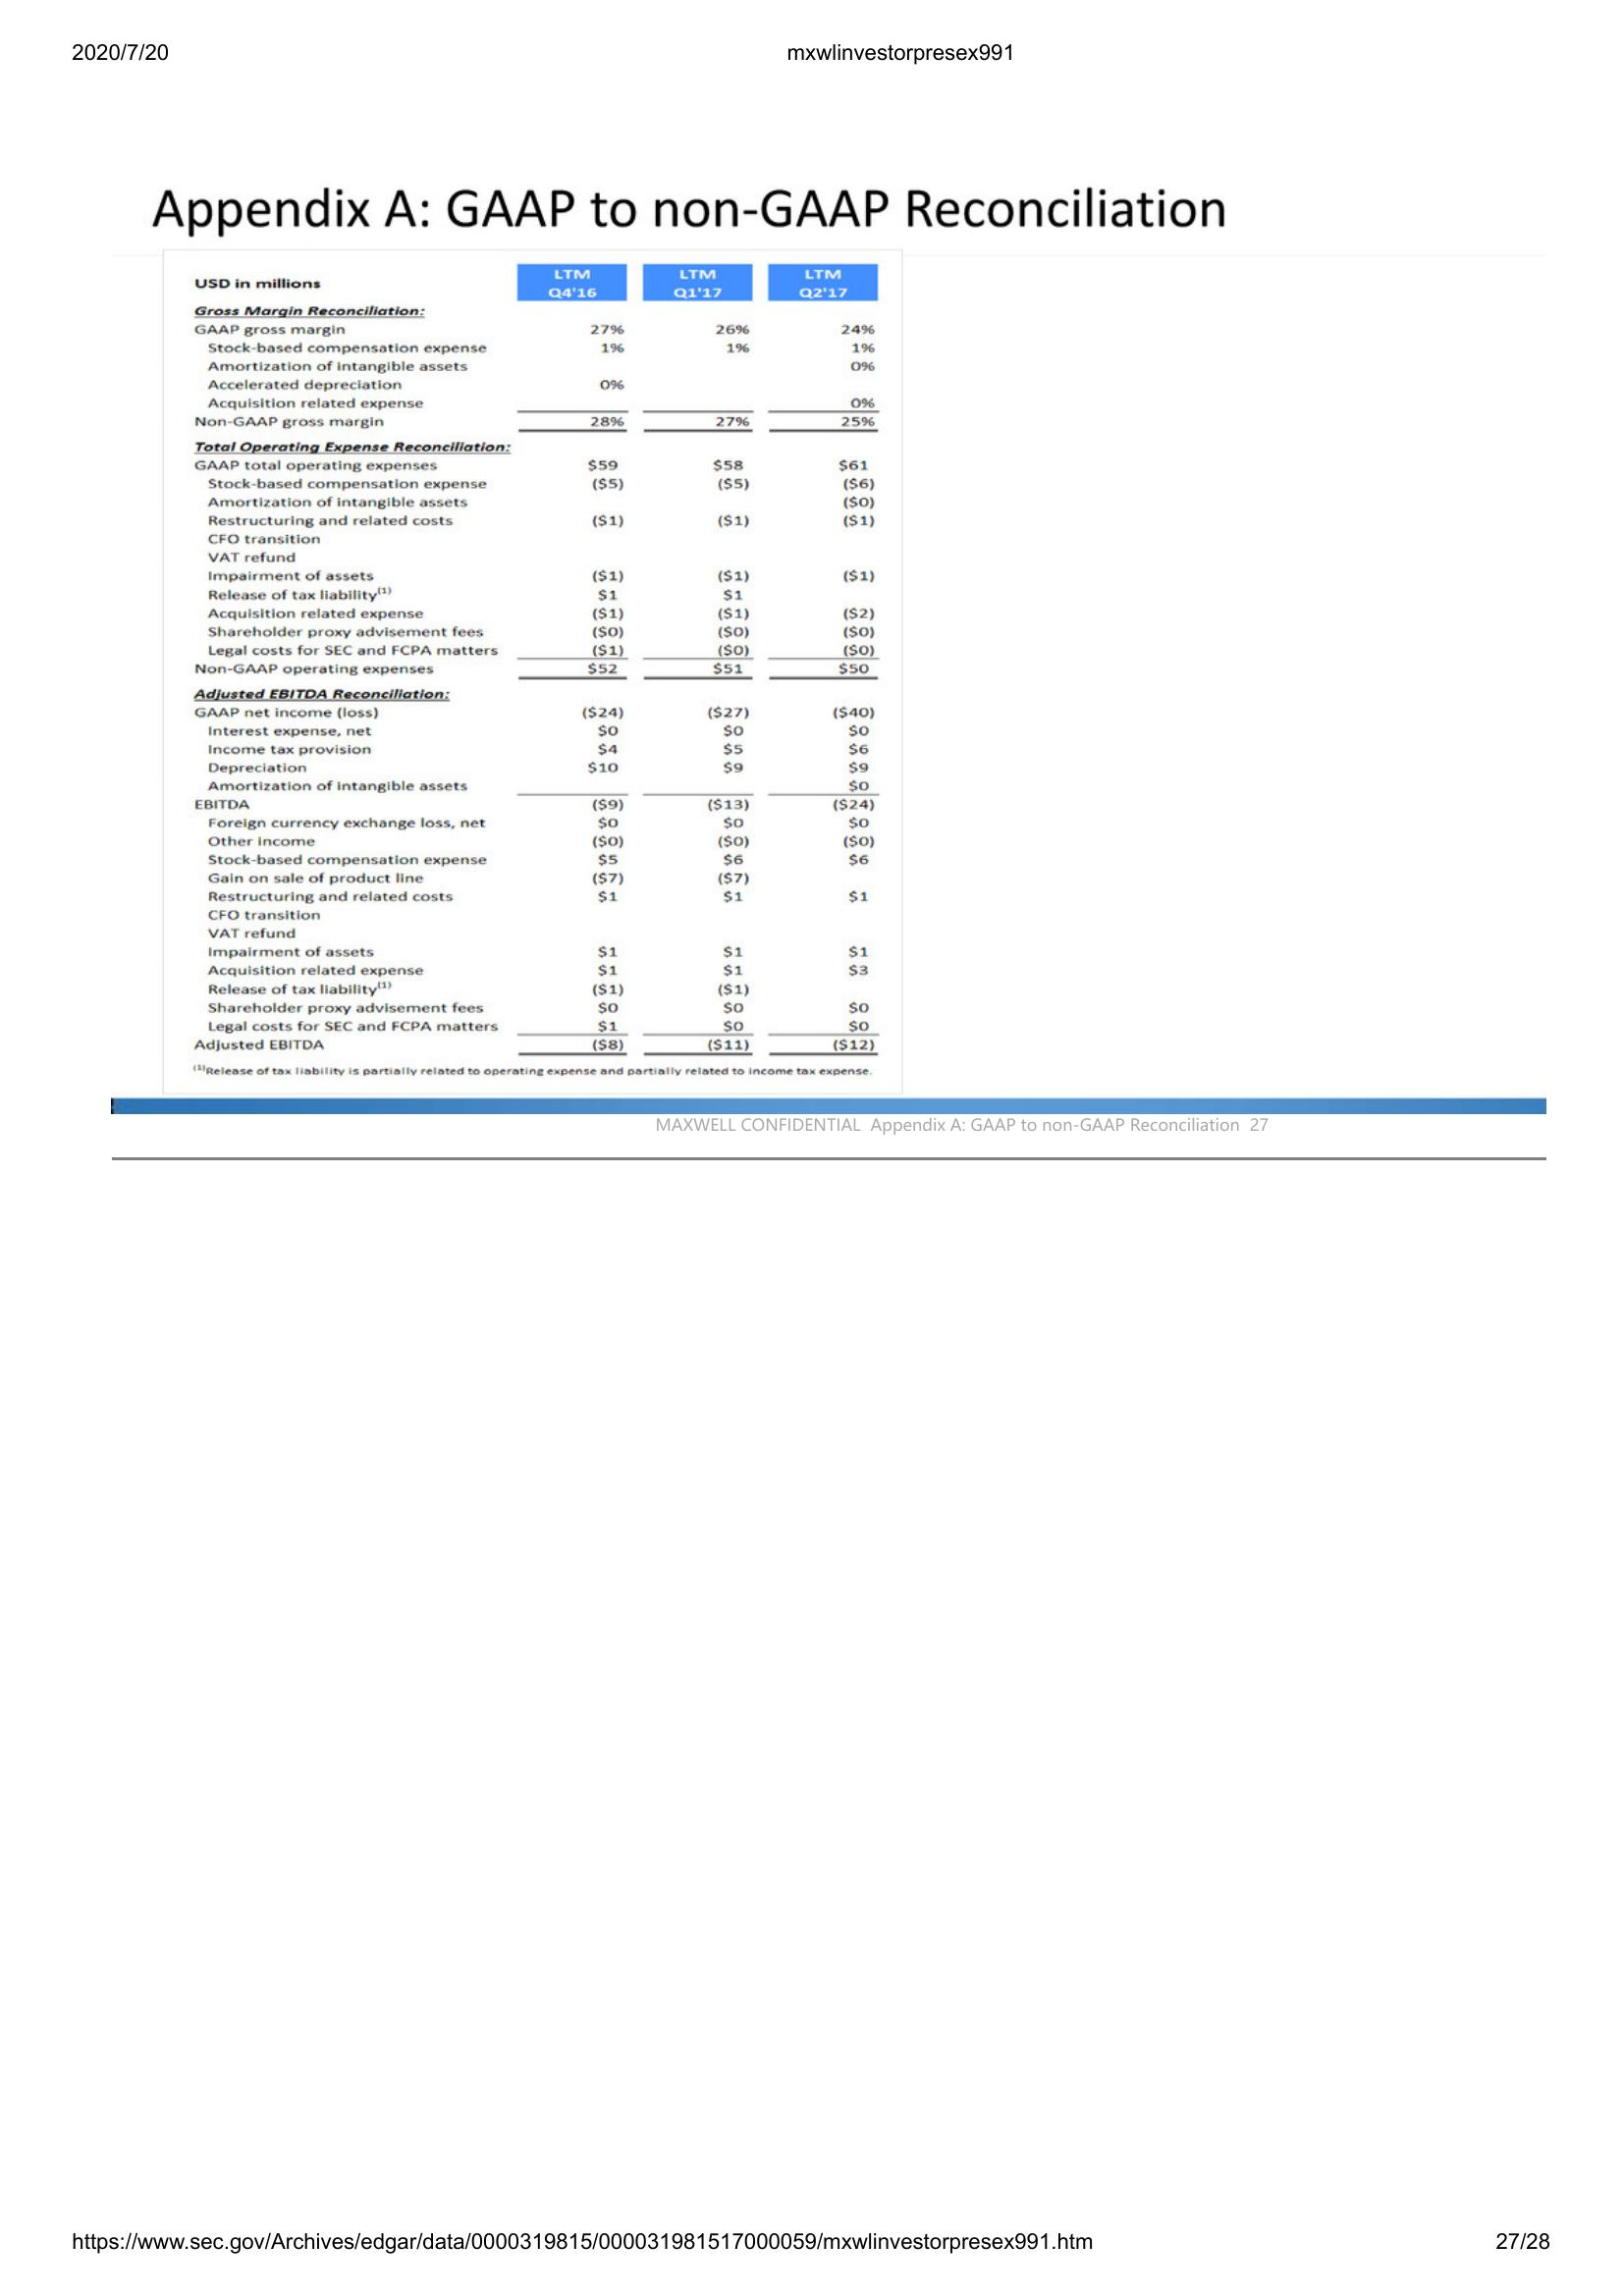table: (163, 253, 901, 1090)
